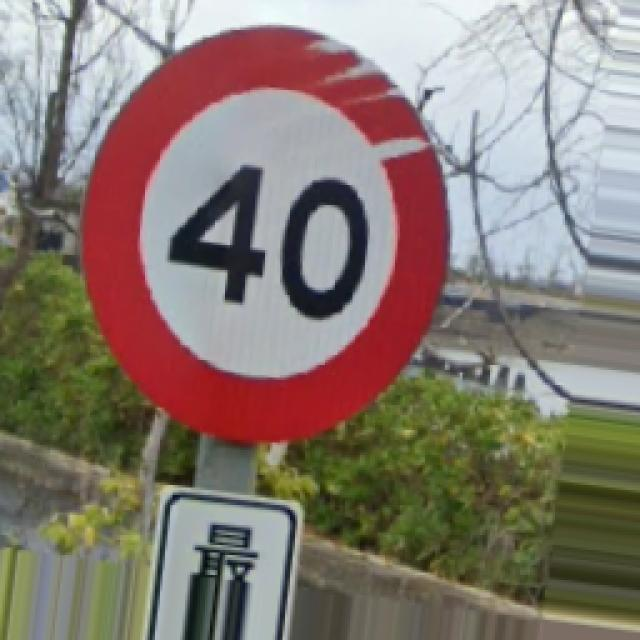Speed Limit -40-: (85, 28, 442, 440)
